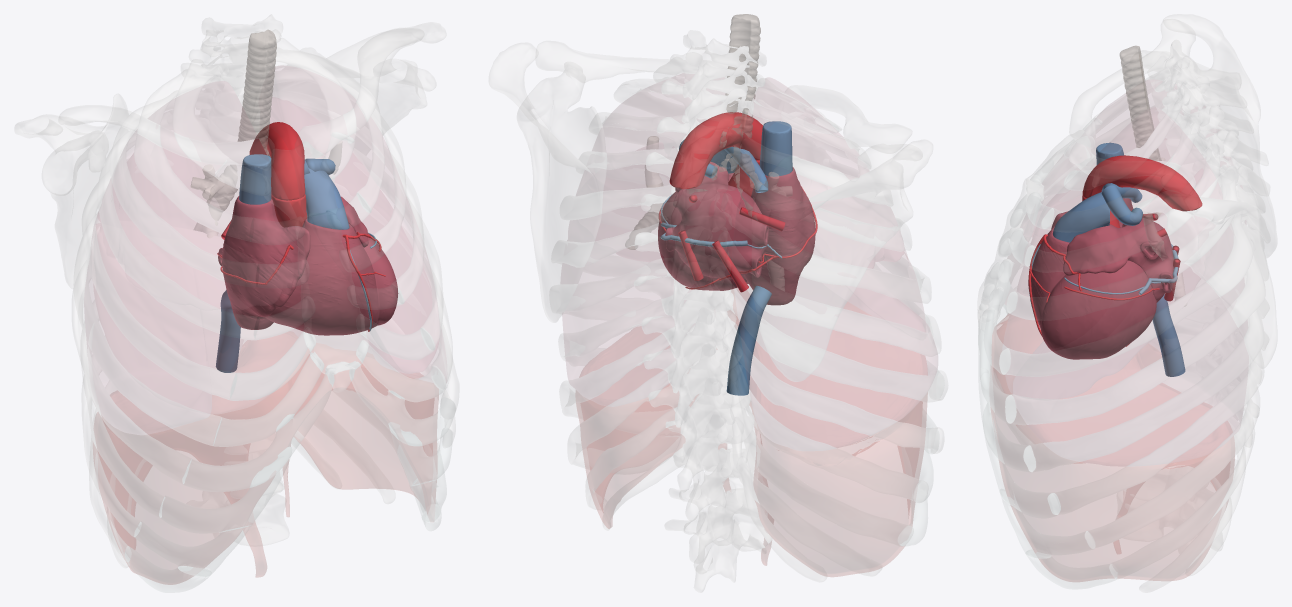
Rendered from torax-vasos-encaixe.glb.
3 views of the same model, side by side, from view 1: azimuth 30°, elevation 25°; view 2: azimuth 150°, elevation 25°; view 3: azimuth 270°, elevation 25° (orthographic). The views are drawn at different scales.
Parts seen in each view (by area): view 1: diafragma_face_toracica, coracao_miocardio, lobo_inferior_D, lobo_superior_D, lobo_medio_D, lobo_superior_E, sternum_corpo, escapula_D, lobo_inferior_E, costela_D_5, clavicula_D, escapula_E (+42 smaller); view 2: diafragma_face_toracica, escapula_D, lobo_inferior_D, lobo_inferior_E, escapula_E, coracao_miocardio, lobo_superior_D, lobo_superior_E, costela_D_9, coracao_aorta, costela_D_7, costela_D_8 (+42 smaller); view 3: diafragma_face_toracica, lobo_inferior_E, coracao_miocardio, escapula_E, lobo_superior_E, costela_E_7, costela_E_9, coracao_aorta, costela_E_3, costela_E_6, escapula_D, costela_E_8 (+28 smaller).
Part boxes in pixels (x1,y1,x2,y2): diafragma_face_toracica: (93, 332, 438, 584); coracao_miocardio: (218, 196, 398, 335); lobo_inferior_D: (84, 149, 242, 434); lobo_superior_D: (98, 81, 305, 309); lobo_medio_D: (92, 224, 310, 413); lobo_superior_E: (270, 66, 438, 373); sternum_corpo: (297, 212, 368, 373); escapula_D: (15, 94, 126, 288); lobo_inferior_E: (270, 97, 446, 382); costela_D_5: (82, 184, 236, 399); clavicula_D: (59, 105, 274, 168); escapula_E: (301, 22, 445, 127); diafragma_face_toracica: (576, 288, 927, 576); escapula_D: (752, 140, 932, 381); lobo_inferior_D: (732, 190, 937, 450); lobo_inferior_E: (561, 143, 694, 406); escapula_E: (489, 43, 606, 322); coracao_miocardio: (658, 161, 815, 305); lobo_superior_D: (740, 78, 903, 268); lobo_superior_E: (577, 73, 724, 261); costela_D_9: (726, 349, 927, 502); coracao_aorta: (669, 112, 762, 196); costela_D_7: (713, 268, 947, 401); costela_D_8: (716, 309, 943, 453); diafragma_face_toracica: (991, 313, 1234, 581); lobo_inferior_E: (1013, 169, 1248, 465); coracao_miocardio: (1028, 198, 1173, 359); escapula_E: (1130, 166, 1276, 368); lobo_superior_E: (1003, 107, 1211, 399); costela_E_7: (1024, 339, 1251, 471); costela_E_9: (1091, 390, 1259, 547); coracao_aorta: (1082, 155, 1202, 227); costela_E_3: (1029, 136, 1219, 272); costela_E_6: (1012, 315, 1237, 424); escapula_D: (1141, 14, 1276, 257); costela_E_8: (1048, 363, 1263, 514).
Bounding box in the file's own units: 0.3329 × 0.4096 × 0.2189.
